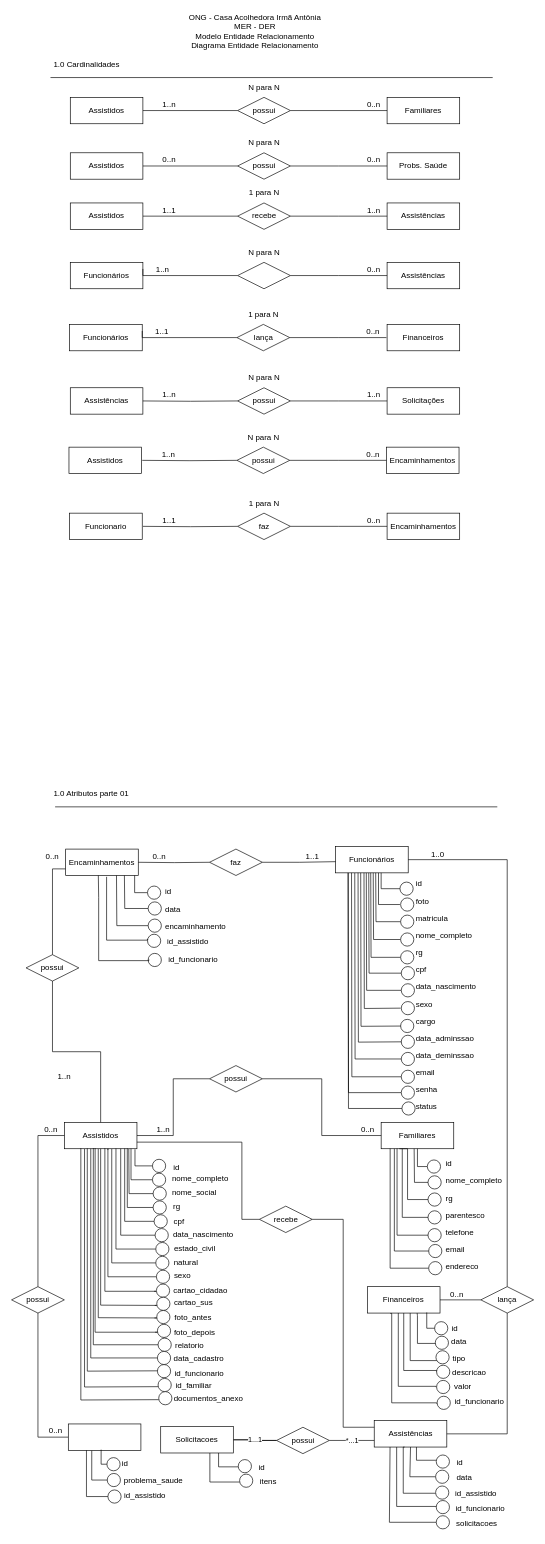
Some shapes in this 545 by 1544 pixel diagram are drawn without their labels. Here are the shapes that lost their labels. From the top down, the centre of each, then its label:
(263,275): dar
(104,1436): Saude
